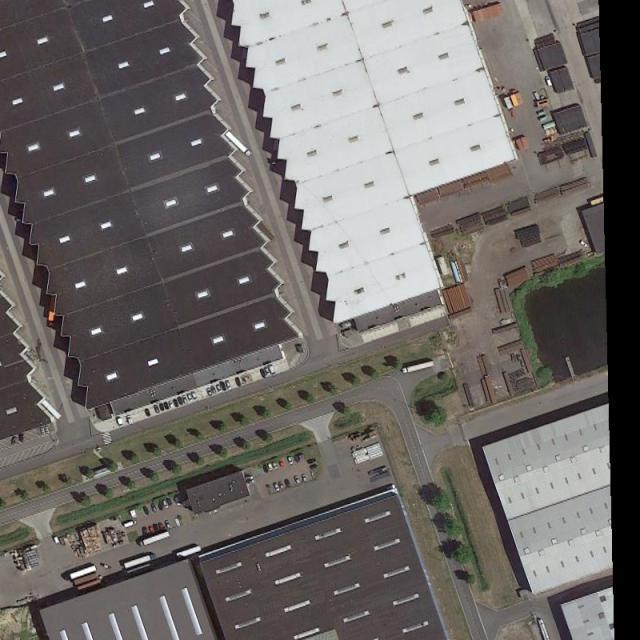vehicle: (138, 530, 170, 548), (400, 361, 436, 376), (173, 543, 202, 561), (123, 553, 155, 569), (74, 579, 102, 597), (535, 614, 553, 640), (74, 571, 99, 585), (70, 567, 97, 578), (124, 520, 138, 528), (141, 505, 150, 516), (174, 494, 182, 506), (116, 416, 124, 428), (158, 522, 166, 533), (166, 497, 174, 508), (294, 475, 302, 486), (278, 480, 286, 491), (126, 414, 134, 425), (148, 525, 155, 536), (162, 498, 169, 509), (308, 463, 319, 470), (284, 478, 291, 489), (153, 522, 159, 534), (270, 461, 278, 470), (278, 458, 285, 468), (287, 455, 294, 465), (306, 457, 316, 464), (273, 482, 280, 492), (52, 534, 59, 544), (182, 395, 189, 405), (206, 387, 213, 397), (225, 380, 232, 390), (269, 365, 276, 375), (164, 519, 170, 530), (262, 463, 268, 474), (267, 462, 273, 473), (177, 396, 183, 407), (151, 503, 158, 512), (211, 385, 218, 394), (302, 474, 308, 484), (192, 390, 198, 400), (260, 368, 266, 378), (10, 437, 17, 445), (579, 240, 587, 247), (144, 409, 151, 417), (18, 432, 23, 443), (157, 500, 162, 511), (39, 427, 45, 436), (154, 404, 160, 413), (187, 393, 193, 402), (44, 425, 49, 435), (217, 383, 222, 393), (142, 526, 146, 538), (158, 402, 164, 410), (169, 401, 174, 410), (174, 398, 179, 407), (265, 366, 270, 375), (165, 402, 170, 410)
